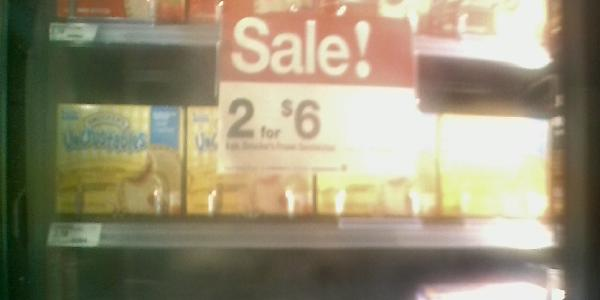icecream: (54, 95, 187, 229), (188, 102, 318, 227), (325, 105, 440, 228), (439, 112, 549, 231)
